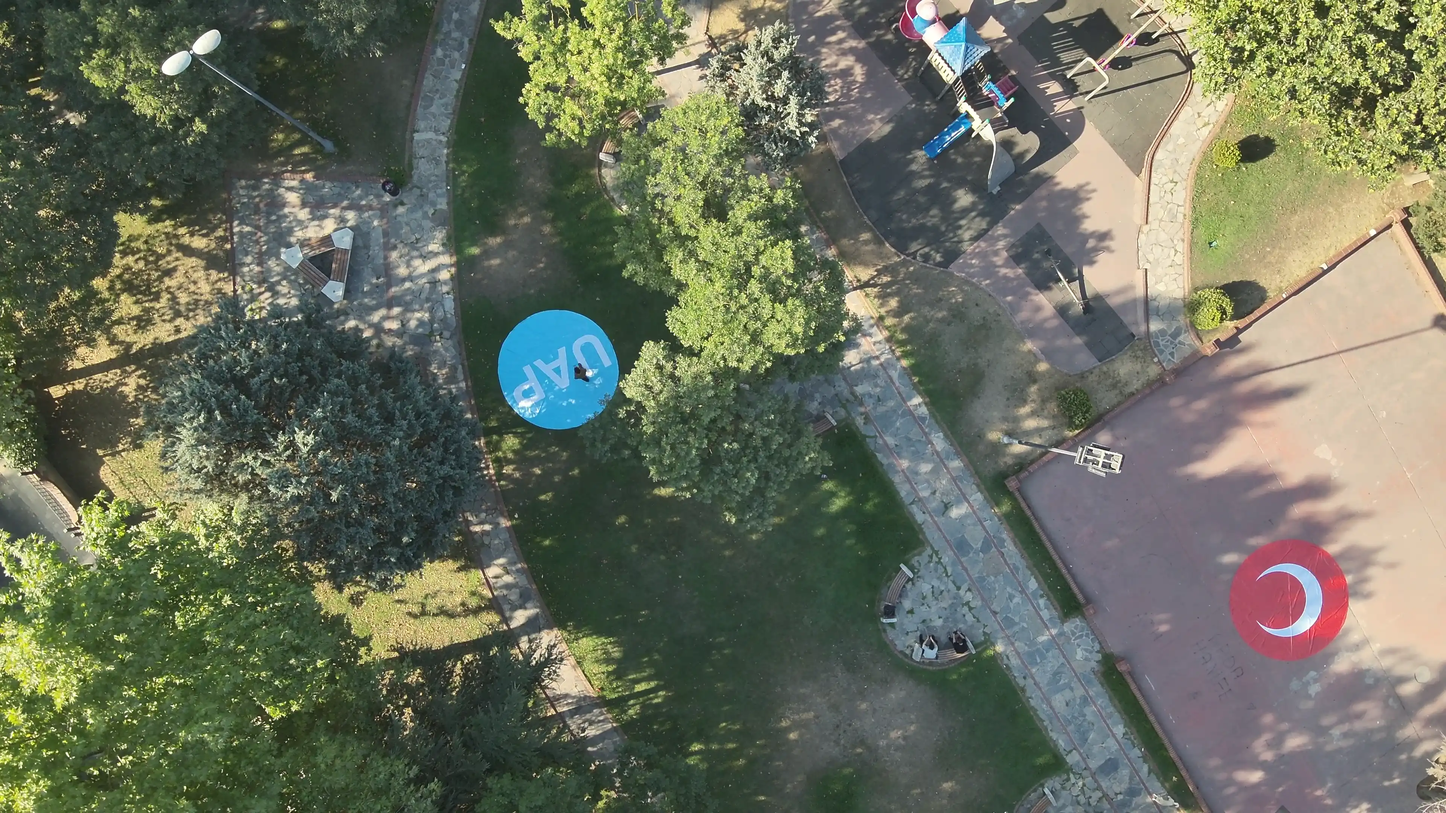UAP: (498, 307, 618, 430)
person: (571, 363, 596, 388)
